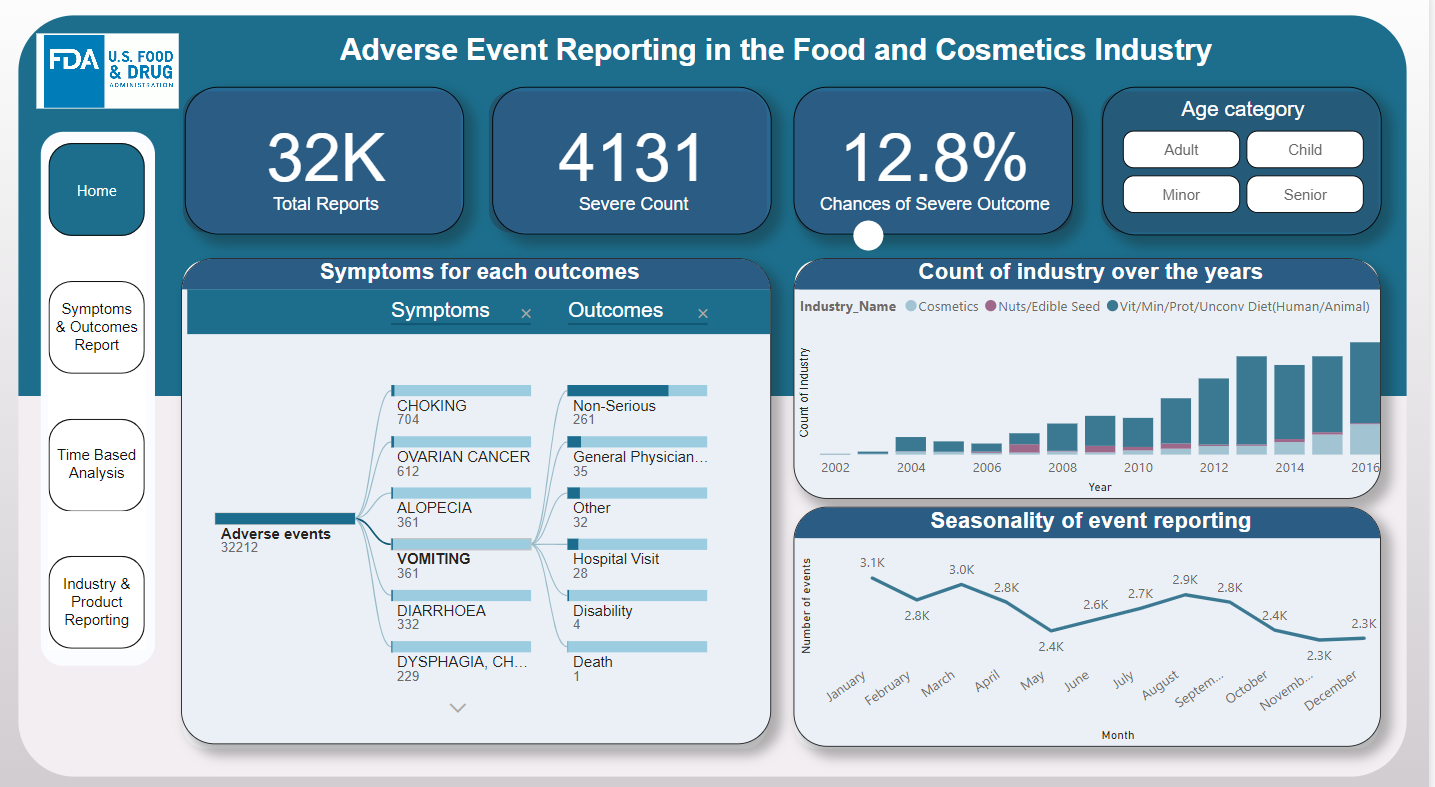

This screenshot's page, from the dashboard's own definition file:
{"tool":"powerbi","page":{"name":"Home","canvas":[1280,720],"ordinal":0},"visuals":[{"type":"lineStackedColumnComboChart","title":"Count of industry over the years","fields":{"Category":["Main_table.Event_Date.Variation.Date Hierarchy.Year"],"Y":["CountNonNull(Main_table.Industry_Name)"],"Series":["Main_table.Industry_Name"]},"box":[712.3,237,524.7,214.8],"z":0},{"type":"card","fields":{"Values":["Main_table.CountSevere"]},"box":[443.2,83.7,249.7,131.7],"z":1000},{"type":"image","box":[31.6,31.6,137.2,76.8],"z":2000},{"type":"textbox","box":[168.8,31.6,1056.6,52.1],"z":3000},{"type":"card","fields":{"Values":["Main_table.Total Reports"]},"box":[168.8,83.7,249.7,131.7],"z":4000},{"type":"card","fields":{"Values":["Main_table.Predictive Score"]},"box":[712.2,83.7,249.7,131.7],"z":5000},{"type":"decompositionTreeVisual","title":"Symptoms for each outcomes","fields":{"Analyze":["CountNonNull(Main_table.Event_ID)"],"ExplainBy":["Main_table.Symptoms","Main_table.Outcomes_gen"]},"box":[165.3,236.5,527.2,434.3],"z":6000},{"type":"ChicletSlicer1448559807354","title":"Age category","fields":{"Category":["Main_table.Age_category"]},"box":[988,83.7,249.7,133.1],"z":7000},{"type":"pageNavigator","box":[47.1,133.9,86.9,452.4],"z":8000},{"type":"lineChart","title":"Seasonality of event reporting","fields":{"Y":["CountNonNull(Main_table.Event_Date)"],"Category":["Main_table.Event_Date.Variation.Date Hierarchy.Month"]},"box":[712,459,525,214],"z":9000}]}

Visuals, with their boxes in screenshot pixels (x1, y1, x2, y2), scaled from the page's 1280x720 canvas onto the 1435x787 screenshot:
"Count of industry over the years" lineStackedColumnComboChart: bbox=[799, 259, 1387, 494]
card - Main_table.CountSevere: bbox=[497, 91, 777, 235]
image: bbox=[35, 35, 189, 118]
textbox: bbox=[189, 35, 1374, 91]
card - Main_table.Total Reports: bbox=[189, 91, 469, 235]
card - Main_table.Predictive Score: bbox=[798, 91, 1078, 235]
"Symptoms for each outcomes" decompositionTreeVisual: bbox=[185, 259, 776, 733]
"Age category" ChicletSlicer1448559807354: bbox=[1108, 91, 1388, 237]
pageNavigator: bbox=[53, 146, 150, 641]
"Seasonality of event reporting" lineChart: bbox=[798, 502, 1387, 736]
